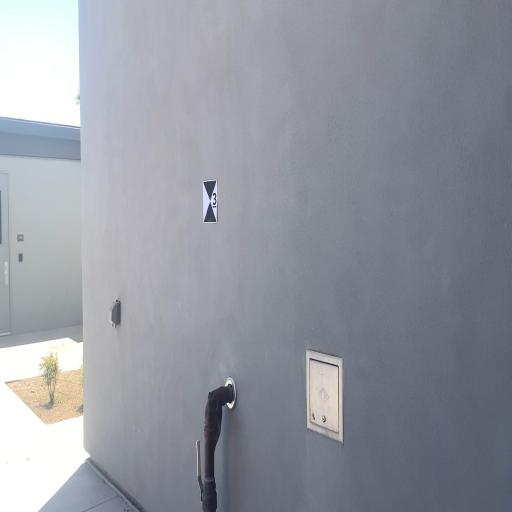target3: (202, 179, 218, 223)
